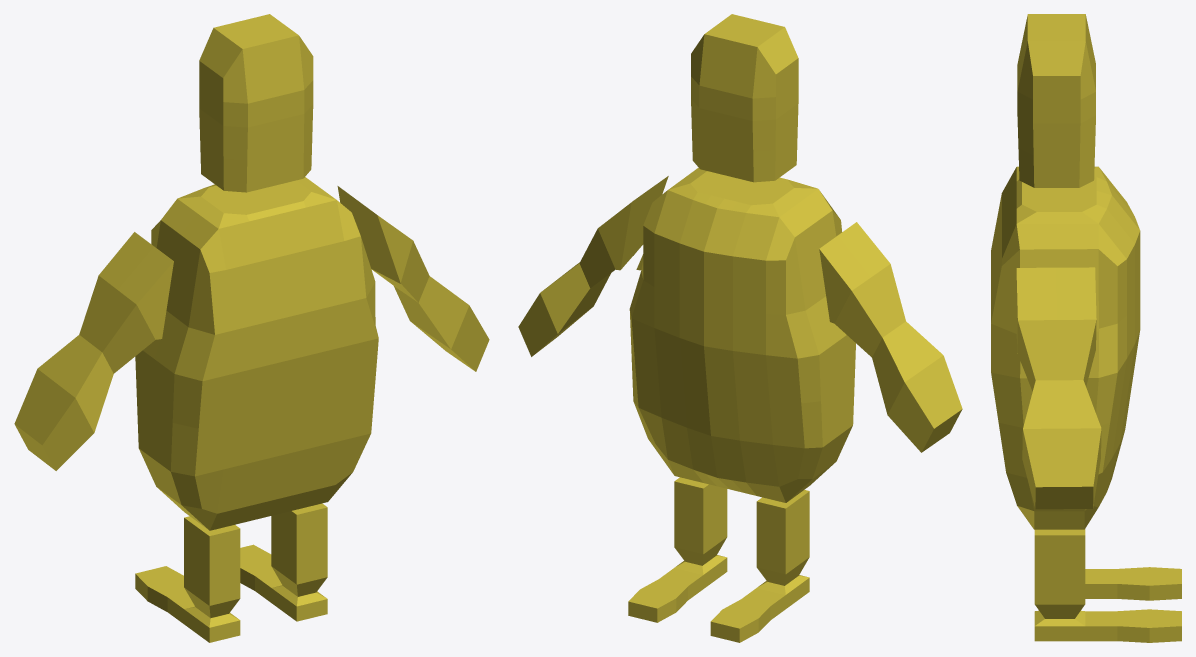
The model's file is Character Dead.fbx.
The picture shows the model from 3 angles, left to right: view 1: azimuth 30°, elevation 25°; view 2: azimuth 150°, elevation 25°; view 3: azimuth 270°, elevation 25°; orthographic projection. The views are drawn at different scales.
Visible parts, largest first — view 1: Torso, Head, Arm.L, Arm.R, Leg.L, Leg.R; view 2: Torso, Head, Arm.L, Leg.L, Arm.R, Leg.R; view 3: Torso, Arm.R, Head, Leg.R, Leg.L.
Part boxes in pixels (left/top/right/bottom): Torso: left=135, top=177, right=378, bottom=530; Head: left=199, top=14, right=313, bottom=192; Arm.L: left=14, top=232, right=173, bottom=470; Arm.R: left=337, top=186, right=489, bottom=371; Leg.L: left=135, top=516, right=240, bottom=642; Leg.R: left=240, top=503, right=327, bottom=621; Torso: left=629, top=167, right=855, bottom=502; Head: left=691, top=14, right=798, bottom=182; Arm.L: left=819, top=222, right=962, bottom=452; Leg.L: left=710, top=490, right=809, bottom=642; Arm.R: left=518, top=176, right=668, bottom=356; Leg.R: left=628, top=477, right=727, bottom=622; Torso: left=991, top=166, right=1140, bottom=529; Arm.R: left=1016, top=267, right=1101, bottom=509; Head: left=1017, top=14, right=1095, bottom=187; Leg.R: left=1034, top=529, right=1181, bottom=642; Leg.L: left=1085, top=567, right=1181, bottom=600.
Bounding box in the file's own units: 6.48 × 8.2 × 2.43.
